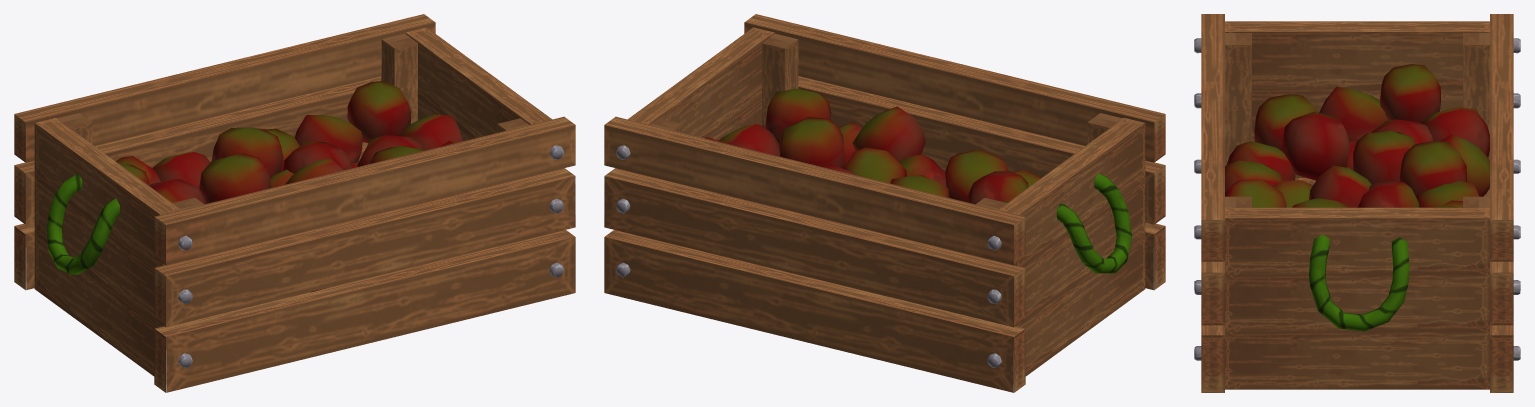
Rendered from FarmCrate_Apple.gltf.
3 renders of one model, left to right at view 1: azimuth 30°, elevation 25°; view 2: azimuth 150°, elevation 25°; view 3: azimuth 270°, elevation 25°, orthographic. The views are drawn at different scales.
Parts seen in each view (by area): view 1: FarmCrate_Apple; view 2: FarmCrate_Apple; view 3: FarmCrate_Apple.
Part boxes in pixels (bbox=[...]): FarmCrate_Apple: bbox=[14, 14, 575, 392]; FarmCrate_Apple: bbox=[604, 14, 1165, 392]; FarmCrate_Apple: bbox=[1194, 14, 1520, 392].
Bounding box in the file's own units: 0.7138 × 0.2438 × 0.4142.
Materials: 3 (3 with a texture image).
